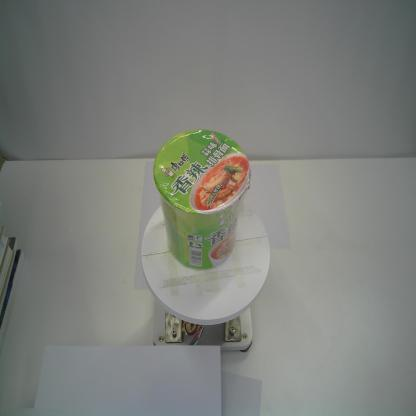Instant Noodles: (152, 128, 253, 272)
